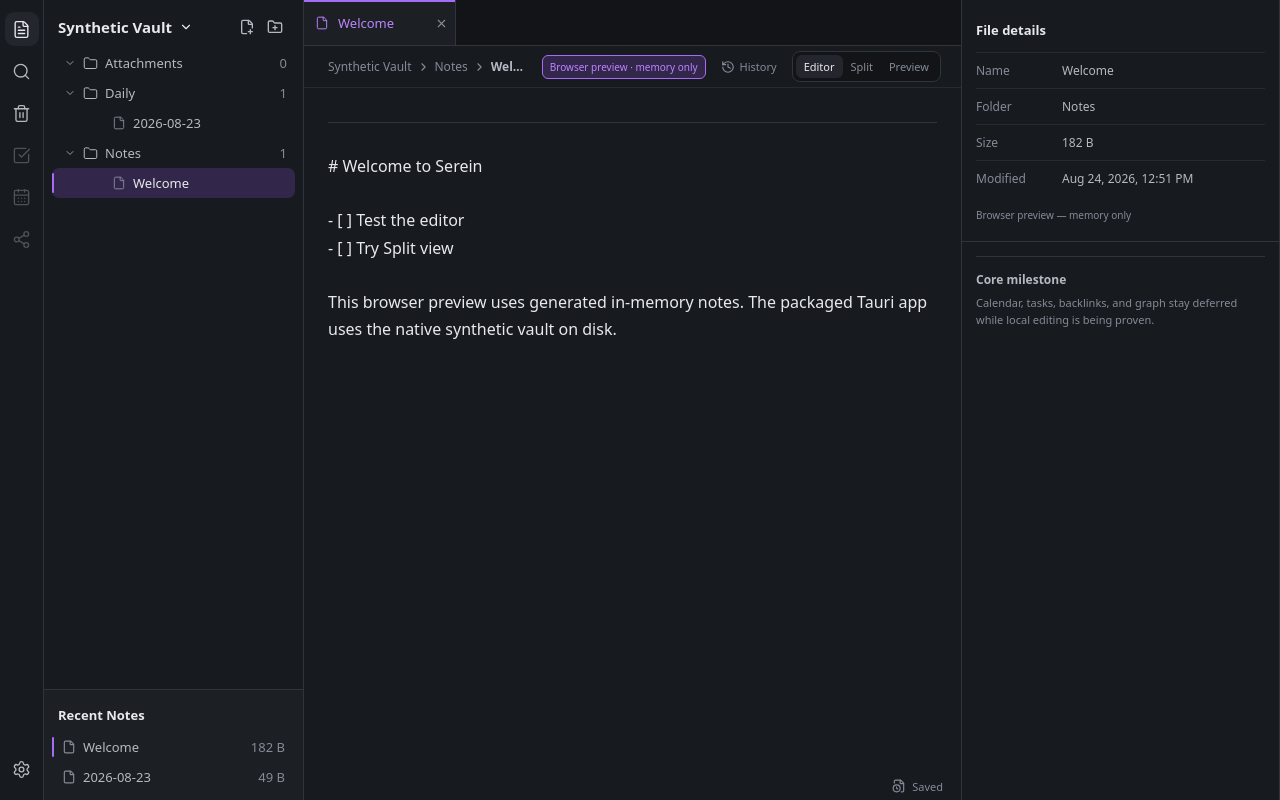
Scenario: native-shaped workspace flow › persists Recovery settings and exposes manual cleanup
Expected: the tab "Welcome" is shown, [304, 0, 427, 45]
Click the button named "Settings" at {"x": 22, "y": 769}, box [4, 752, 38, 786]
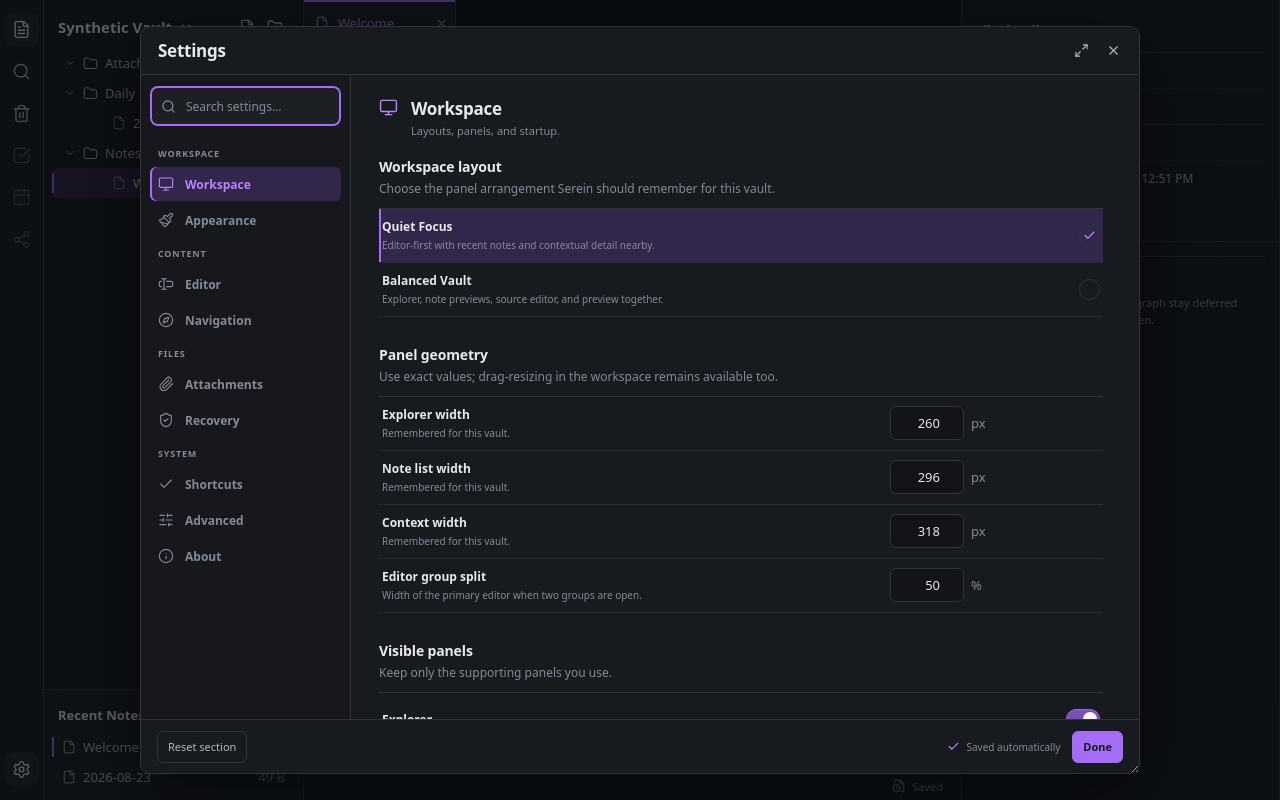
Click the button "Recovery" at {"x": 246, "y": 420}, box [150, 403, 341, 437]
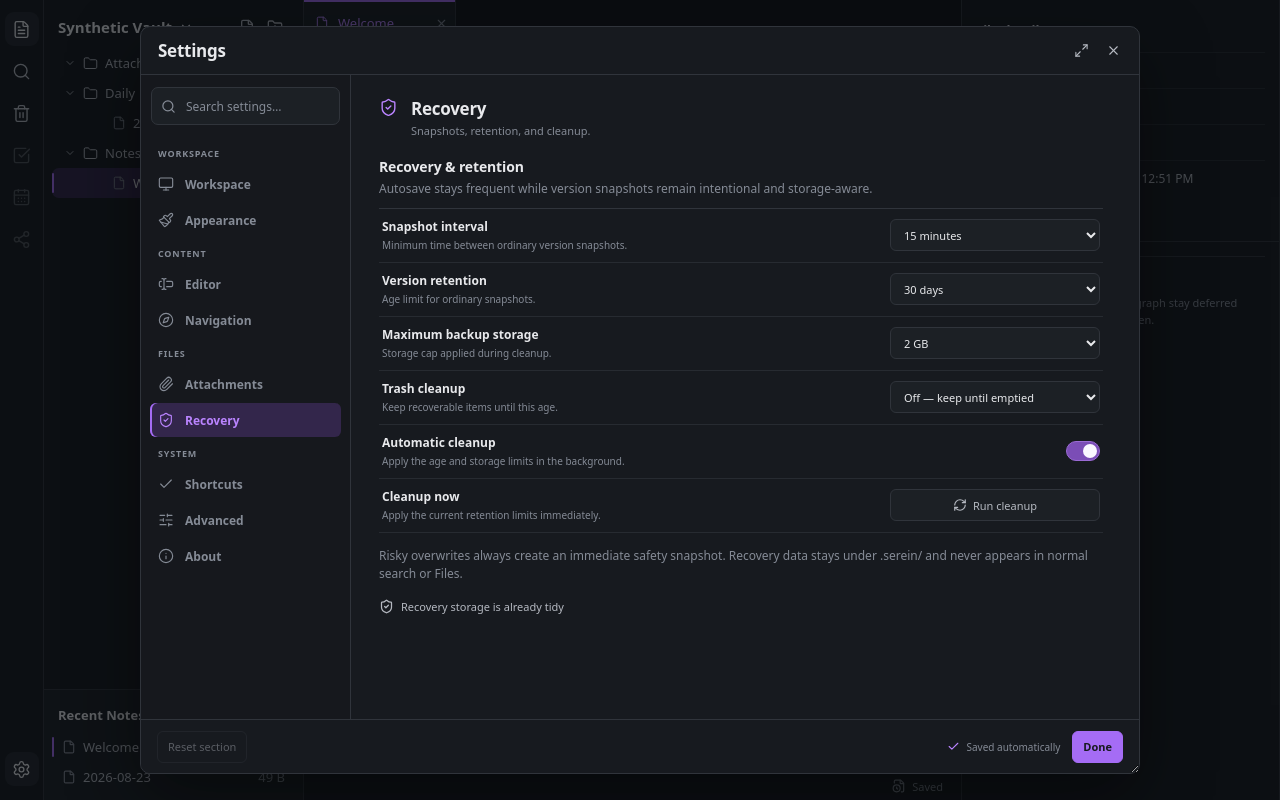
Select "30 minutes" in the dropdown labelled "Snapshot interval" at {"x": 995, "y": 235}, box [890, 219, 1100, 251]
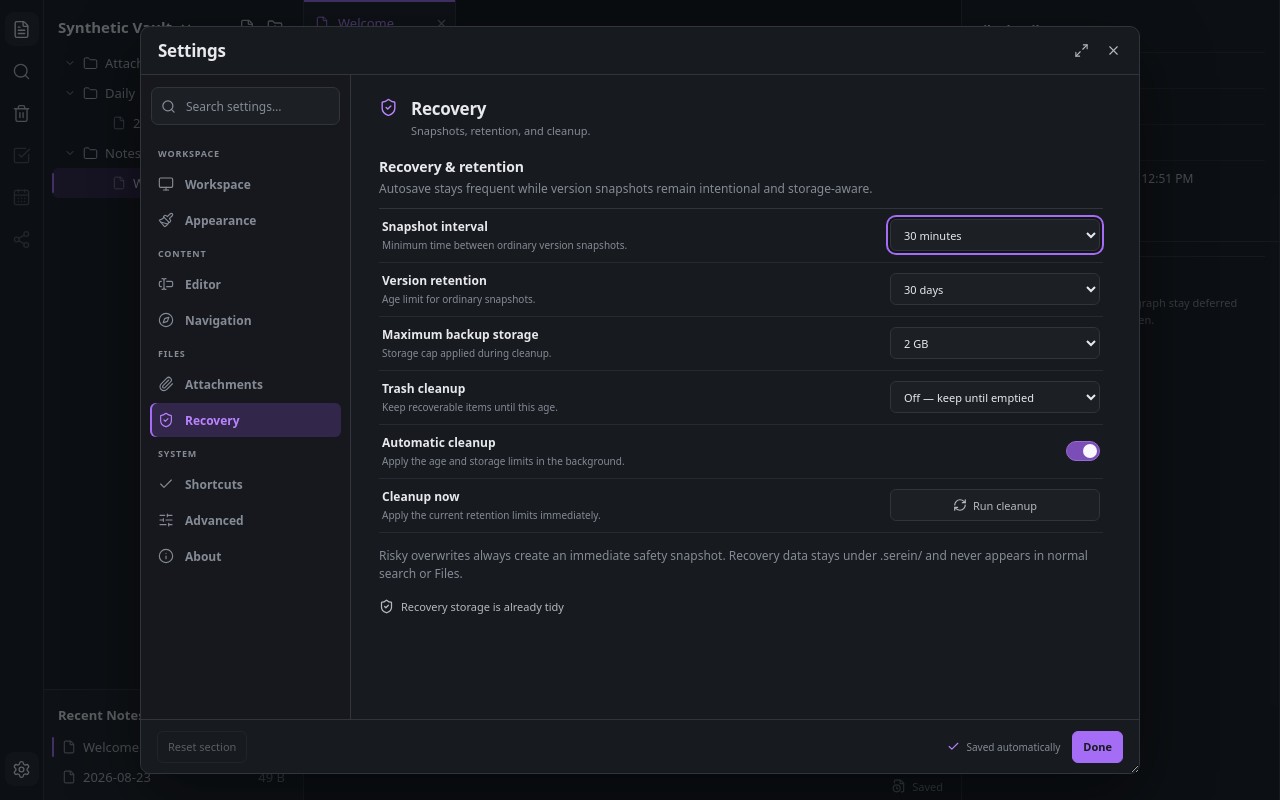
Select "After 90 days" in the dropdown labelled "Trash cleanup" at {"x": 995, "y": 397}, box [890, 381, 1100, 413]
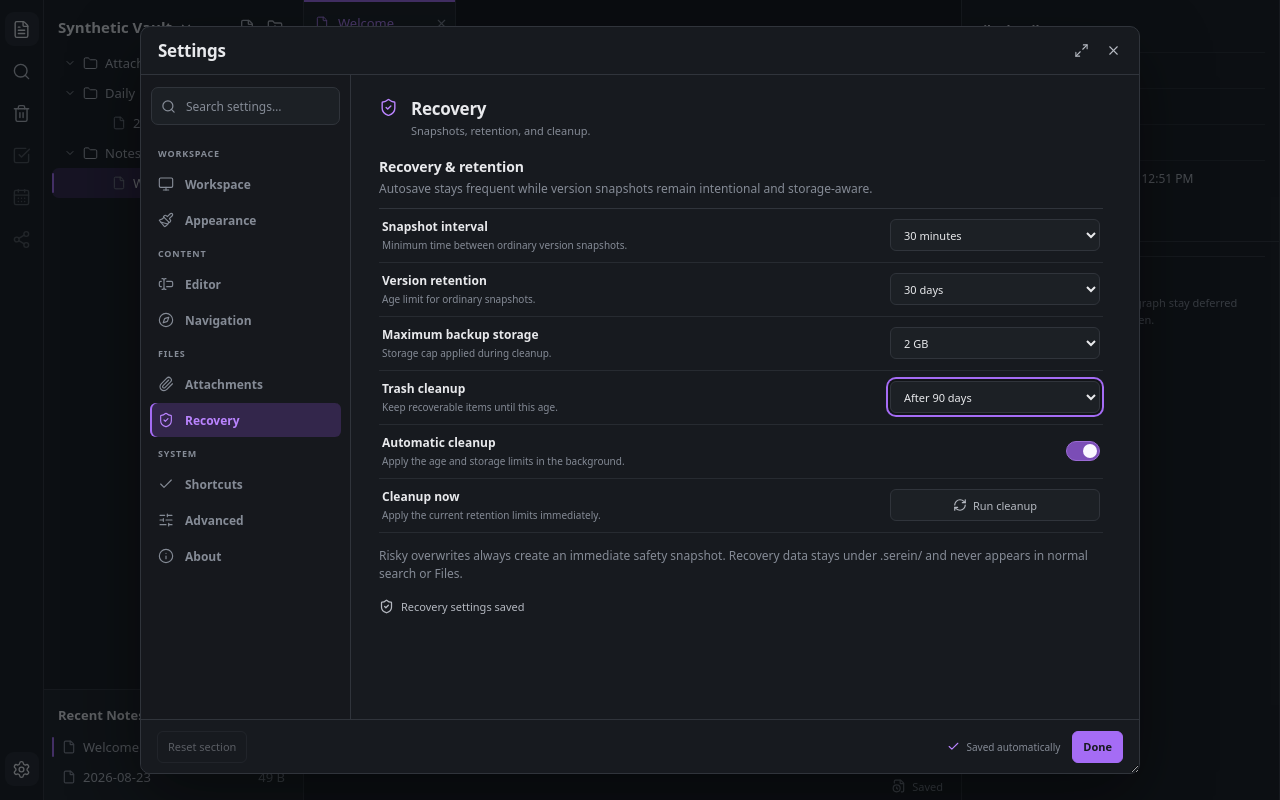
Now the text "Recovery settings saved" is shown, box [379, 599, 524, 614]
Click the button "Run cleanup" at {"x": 995, "y": 505}, box [890, 489, 1100, 521]
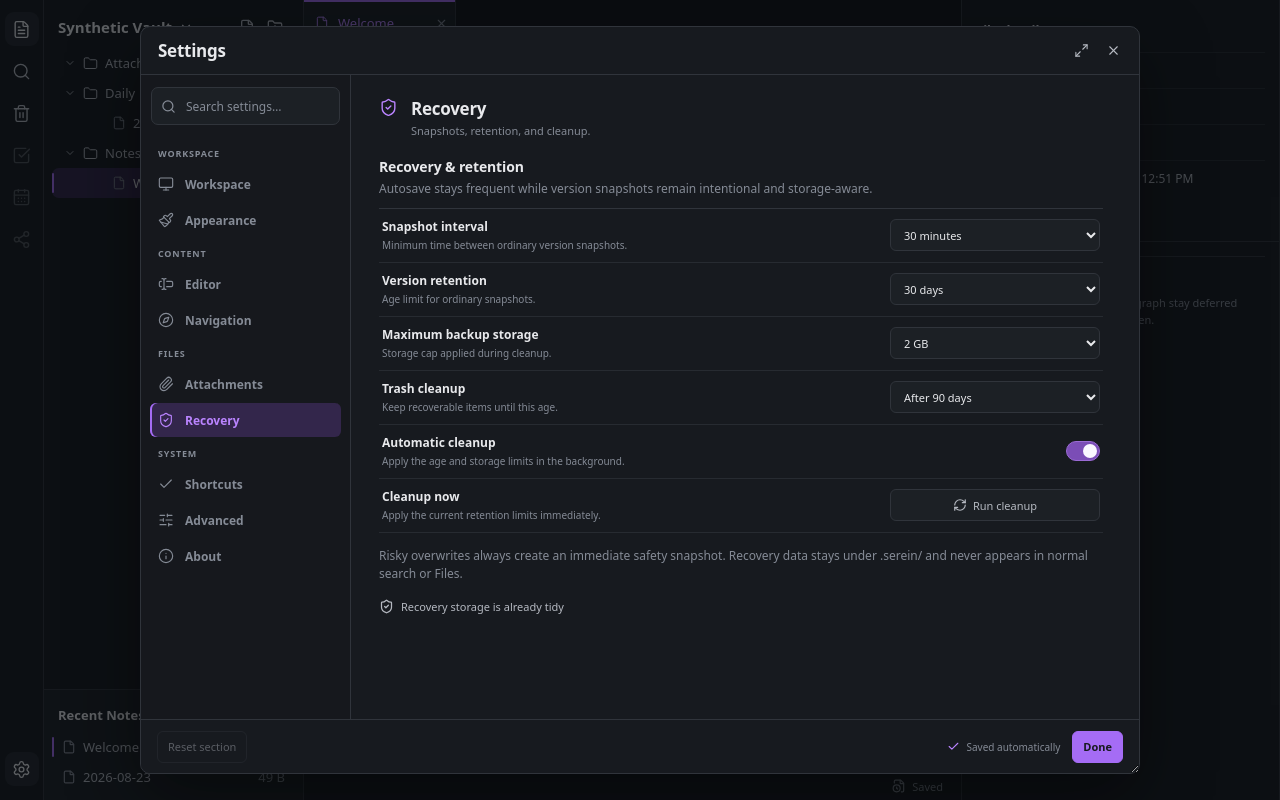
Now the text "Recovery storage is already tidy" is shown, box [379, 599, 564, 614]
